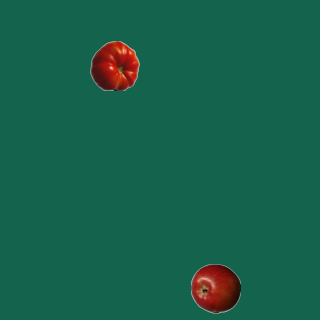Apple Braeburn: (190, 263, 240, 313)
Tomato 3: (89, 40, 139, 90)
